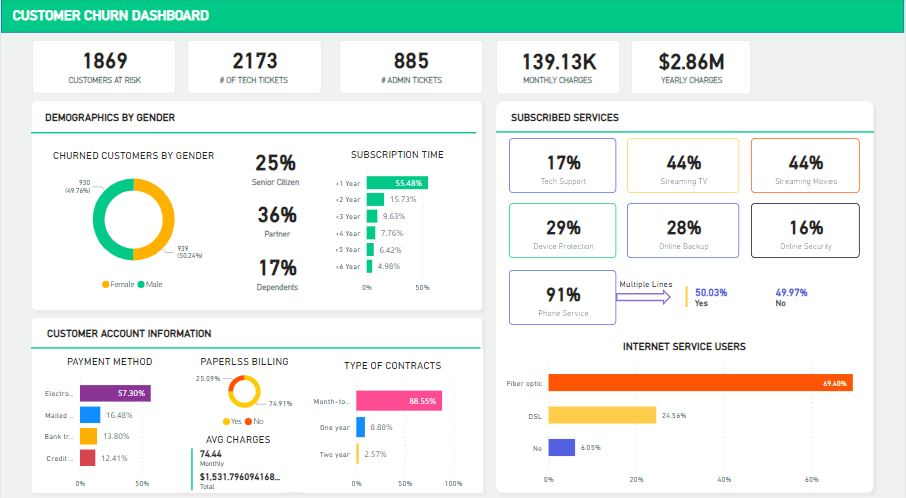

The page's visual inventory and layout, read from the dashboard file:
{"tool":"powerbi","page":{"name":"Churn Dashboard","canvas":[1280,720],"ordinal":0},"visuals":[{"type":"shape","box":[0,0,1280,49],"z":0},{"type":"shape","box":[34,136,658,316],"z":0,"group":"g1"},{"type":"card","fields":{"Values":["Churn.% Tech Support"]},"box":[720,199,152.4,78.4],"z":0,"group":"g4"},{"type":"shape","box":[692,136,555,575],"z":1000},{"type":"card","fields":{"Values":["Churn.% Streaming TV"]},"box":[887.4,199,159.5,78.4],"z":1000,"group":"g4"},{"type":"donutChart","title":"CHURNED CUSTOMERS BY GENDER","fields":{"Category":["01 Churn-Dataset.gender"],"Y":["CountNonNull(01 Churn-Dataset.gender)"]},"box":[61.1,204.4,252.2,223.4],"z":1000,"group":"g1"},{"type":"shape","box":[702,123,536,133],"z":1500,"group":"g3"},{"type":"shape","box":[42,430,636.8,133],"z":1500,"group":"g2"},{"type":"textbox","box":[12,8,438,33],"z":2000},{"type":"textbox","box":[703.8,145,522.6,38],"z":2000,"group":"g3"},{"type":"textbox","box":[42.7,146.1,630.9,47.3],"z":2000,"group":"g1"},{"type":"card","fields":{"Values":["Churn.% Streaming Movies"]},"box":[1062.8,199,154.2,78.4],"z":2000,"group":"g4"},{"type":"textbox","box":[44.2,452,636.8,38],"z":2000,"group":"g2"},{"type":"card","fields":{"Values":["Churn.% of Senior Citizen"]},"box":[330.5,204.4,118,77.5],"z":3000,"group":"g1"},{"type":"card","fields":{"Values":["Churn.% Device Protection"]},"box":[720,291.6,152.4,78.4],"z":3000,"group":"g4"},{"type":"shape","box":[34,444,658,267],"z":3000},{"type":"card","fields":{"Values":["CountNonNull(01 Churn-Dataset.customerID)"]},"box":[44,60,204,76],"z":4000},{"type":"card","fields":{"Values":["Churn.% of partner"]},"box":[329.5,278.9,125.5,74.5],"z":4000,"group":"g1"},{"type":"card","fields":{"Values":["Churn.% Online Backup"]},"box":[887.4,291.6,159.5,78.4],"z":4000,"group":"g4"},{"type":"shape","box":[42.7,151.1,630.9,78.5],"z":5000,"group":"g1"},{"type":"card","fields":{"Values":["Churn.% Online Sec"]},"box":[1062.8,291.6,154.2,78.4],"z":5000,"group":"g4"},{"type":"card","fields":{"Values":["Churn.% Phone Service"]},"box":[720,385,152,78],"z":5000},{"type":"card","fields":{"Values":["Sum(01 Churn-Dataset.numTechTickets)"]},"box":[264,60,191,76],"z":6000},{"type":"card","fields":{"Values":["Churn.% of Dependents"]},"box":[329.5,351.4,125.5,79.5],"z":6000,"group":"g1"},{"type":"clusteredBarChart","title":"SUBSCRIPTION TIME","fields":{"Y":["CountNonNull(Churn.Churn)"],"Category":["Churn.Tenure(in years)"]},"box":[466.9,204.4,190.5,220.4],"z":7000,"group":"g1"},{"type":"clusteredBarChart","title":"PAYMENT METHOD","fields":{"Y":["CountNonNull(Churn.PaymentMethod)"],"Category":["Churn.PaymentMethod"]},"box":[44,497,220,204],"z":7000},{"type":"card","fields":{"Values":["Sum(01 Churn-Dataset.TotalCharges)"]},"box":[892.9,59.5,170.1,76.5],"z":8000},{"type":"card","fields":{"Values":["Sum(01 Churn-Dataset.numAdminTickets)"]},"box":[479,60,204,76],"z":9000},{"type":"group","id":"g1","title":"Group 1","box":[34,136,658,316],"z":10000},{"type":"card","fields":{"Values":["Sum(01 Churn-Dataset.MonthlyCharges)"]},"box":[701.6,59.5,175.7,76.5],"z":11000},{"type":"donutChart","title":"PAPERLSS BILLING","fields":{"Category":["Churn.PaperlessBilling"],"Y":["CountNonNull(Churn.PaperlessBilling)"]},"box":[248,497,194,126],"z":12000},{"type":"multiRowCard","title":"AVG CHARGES","fields":{"Values":["Avg(Churn.MonthlyCharges)","Avg(Churn.TotalCharges)"]},"box":[264,606,143,95],"z":13000},{"type":"clusteredBarChart","title":"TYPE OF CONTRACTS","fields":{"Category":["Churn.Contract"],"Y":["CountNonNull(Churn.Contract)"]},"box":[426,497,257,204],"z":14000},{"type":"group","id":"g2","title":"Group 2","box":[42,430,639,133],"z":15000},{"type":"group","id":"g3","title":"Group 2","box":[702,123,536,133],"z":16000},{"type":"group","id":"g4","title":"Group 3","box":[720,199,497,171],"z":17000},{"type":"shape","box":[871,412,78,23],"z":18000},{"type":"textbox","box":[872,391,300,30],"z":19000},{"type":"multiRowCard","fields":{"Values":["Churn.% Yes-Multiple Lines","Churn.% No-Multiple Lines"]},"box":[965,404,252,53],"z":20000},{"type":"barChart","title":"INTERNET SERVICE USERS","fields":{"Y":["CountNonNull(Churn.InternetService)"],"Category":["Churn.InternetService"]},"box":[710,471,517,230],"z":21000}]}

Visuals, with their boxes in screenshot pixels (x1, y1, x2, y2), scaled from the page's 1280x720 canvas onto the 906x498 screenshot:
shape: 0:0:905:34
shape: 24:94:490:313
card - Churn.% Tech Support: 510:138:617:192
shape: 490:94:883:492
card - Churn.% Streaming TV: 628:138:741:192
"CHURNED CUSTOMERS BY GENDER" donutChart: 43:141:222:296
shape: 497:85:876:177
shape: 30:297:480:389
textbox: 8:6:319:28
textbox: 498:100:868:127
textbox: 30:101:477:134
card - Churn.% Streaming Movies: 752:138:861:192
textbox: 31:313:482:339
card - Churn.% of Senior Citizen: 234:141:317:195
card - Churn.% Device Protection: 510:202:617:256
shape: 24:307:490:492
card - CountNonNull(01 Churn-Dataset.customerID): 31:42:176:94
card - Churn.% of partner: 233:193:322:244
card - Churn.% Online Backup: 628:202:741:256
shape: 30:105:477:159
card - Churn.% Online Sec: 752:202:861:256
card - Churn.% Phone Service: 510:266:617:320
card - Sum(01 Churn-Dataset.numTechTickets): 187:42:322:94
card - Churn.% of Dependents: 233:243:322:298
"SUBSCRIPTION TIME" clusteredBarChart: 330:141:465:294
"PAYMENT METHOD" clusteredBarChart: 31:344:187:485
card - Sum(01 Churn-Dataset.TotalCharges): 632:41:752:94
card - Sum(01 Churn-Dataset.numAdminTickets): 339:42:483:94
"Group 1" group: 24:94:490:313
card - Sum(01 Churn-Dataset.MonthlyCharges): 497:41:621:94
"PAPERLSS BILLING" donutChart: 176:344:313:431
"AVG CHARGES" multiRowCard: 187:419:288:485
"TYPE OF CONTRACTS" clusteredBarChart: 302:344:483:485
"Group 2" group: 30:297:482:389
"Group 2" group: 497:85:876:177
"Group 3" group: 510:138:861:256
shape: 617:285:672:301
textbox: 617:270:830:291
multiRowCard - Churn.% Yes-Multiple Lines x Churn.% No-Multiple Lines: 683:279:861:316
"INTERNET SERVICE USERS" barChart: 503:326:868:485
